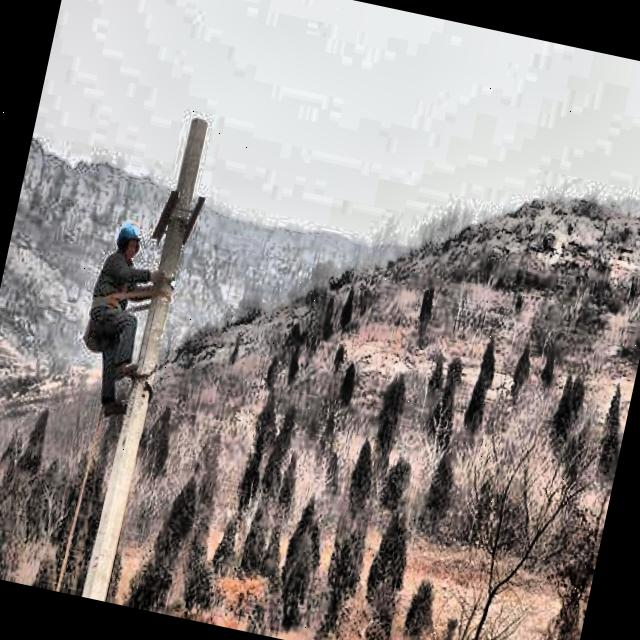helmet: (109, 217, 147, 266)
